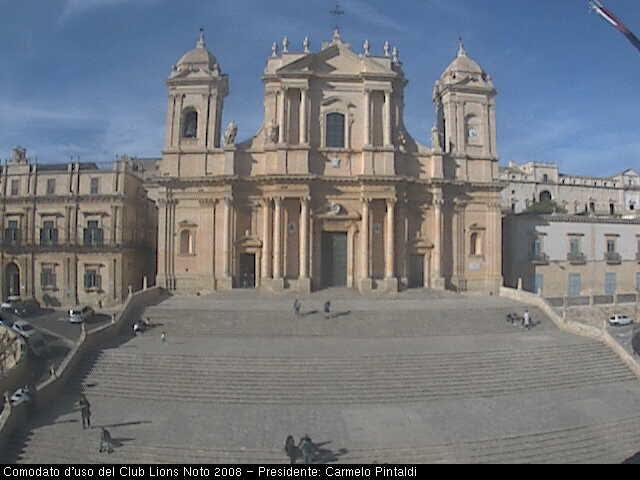person: (96, 426, 116, 456), (299, 433, 316, 464), (76, 393, 91, 428), (283, 434, 298, 463), (291, 297, 301, 319), (322, 299, 332, 320), (521, 309, 530, 331), (159, 328, 168, 346), (530, 311, 538, 328), (136, 319, 144, 335), (144, 316, 152, 332), (512, 311, 520, 327), (129, 319, 136, 336), (505, 311, 512, 328)
